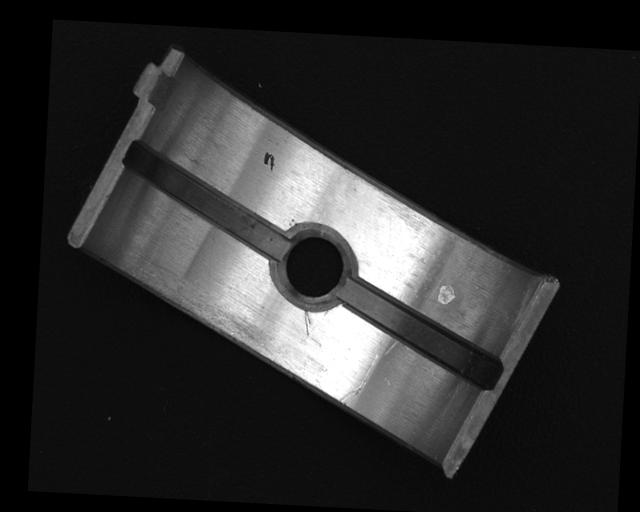blot: (262, 150, 276, 171)
bruise: (437, 283, 457, 306)
gap: (119, 143, 293, 258), (338, 282, 505, 386)
hole: (267, 223, 356, 307)
nick: (337, 349, 379, 408), (302, 309, 312, 337)
scratch: (117, 267, 273, 357)
